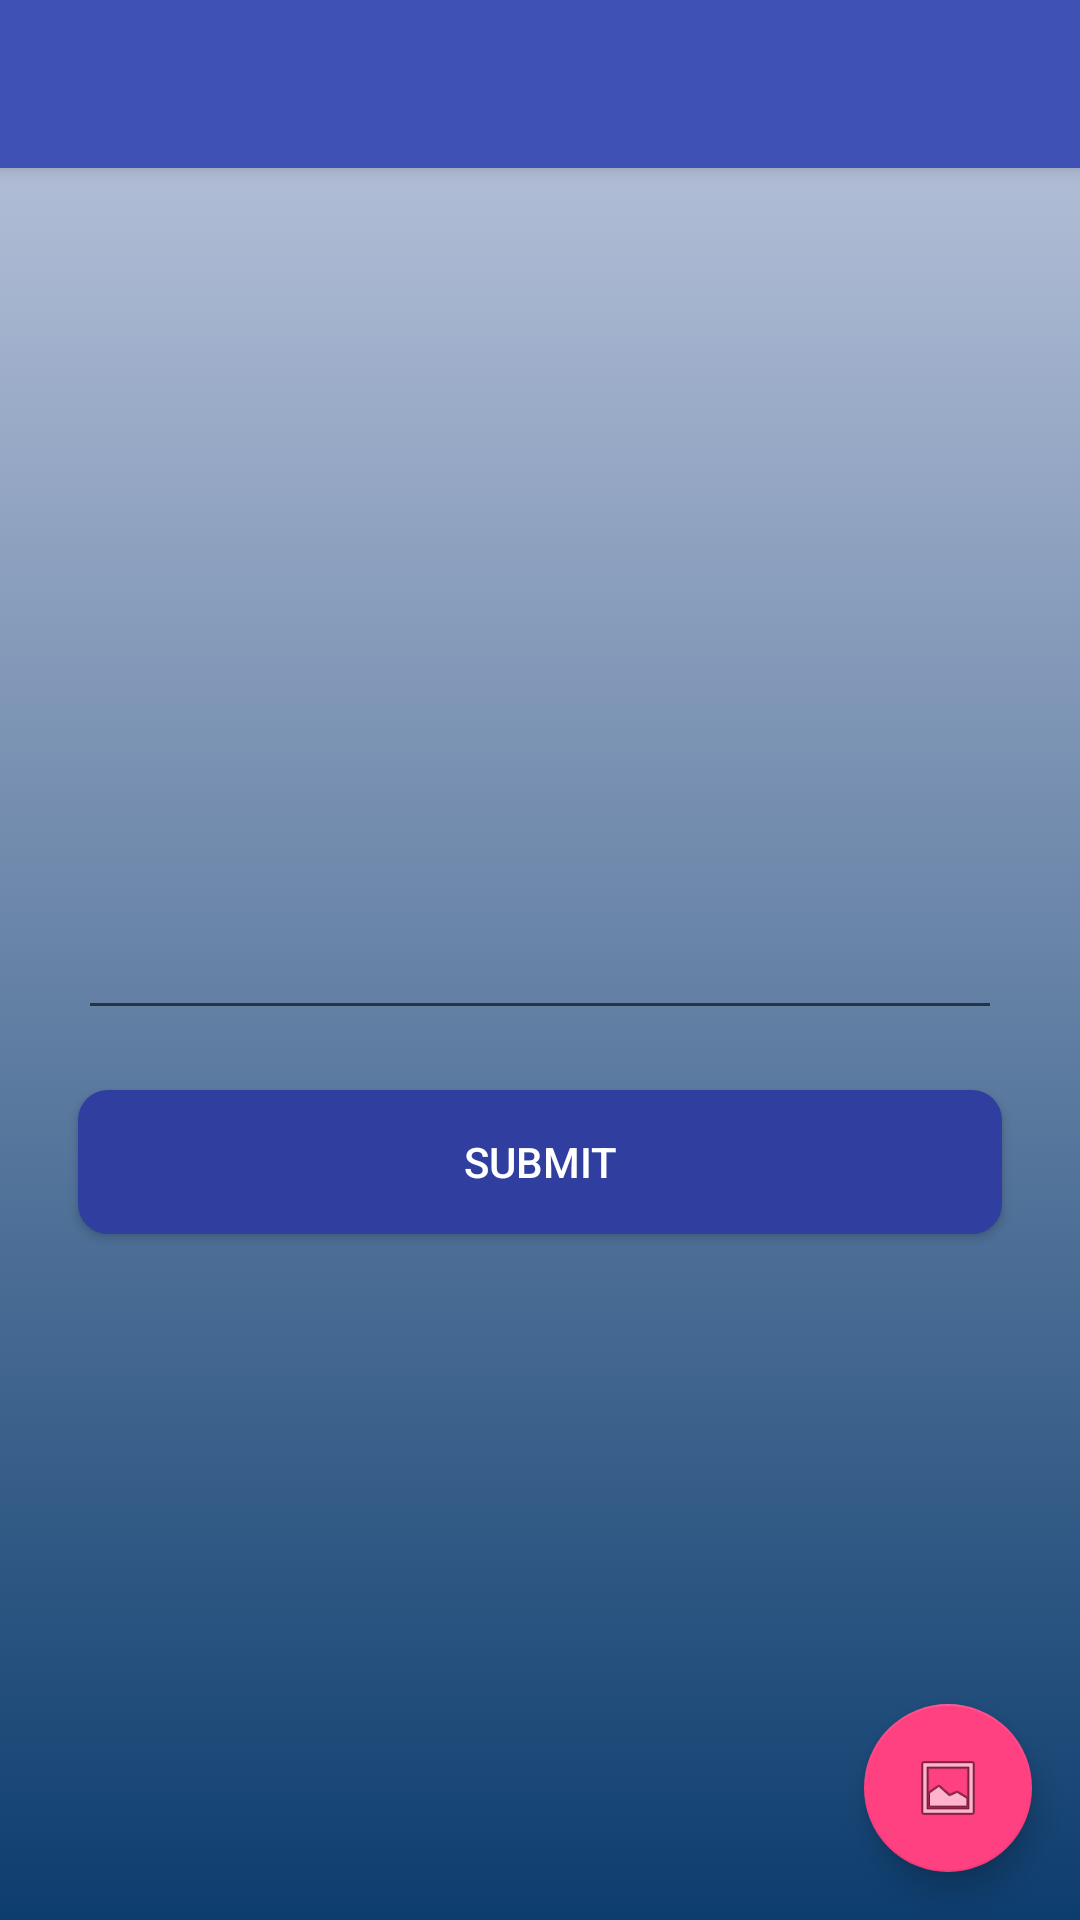

Icons on this 1080px×1920px Android screen, each with its box as (x1, y1, x2, y2):
gallery: (864, 1704, 1032, 1872)
